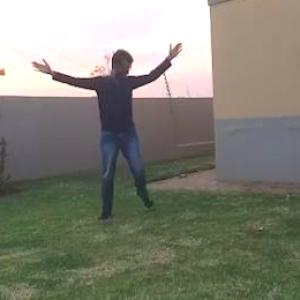takeoff: (24, 24, 186, 214)
